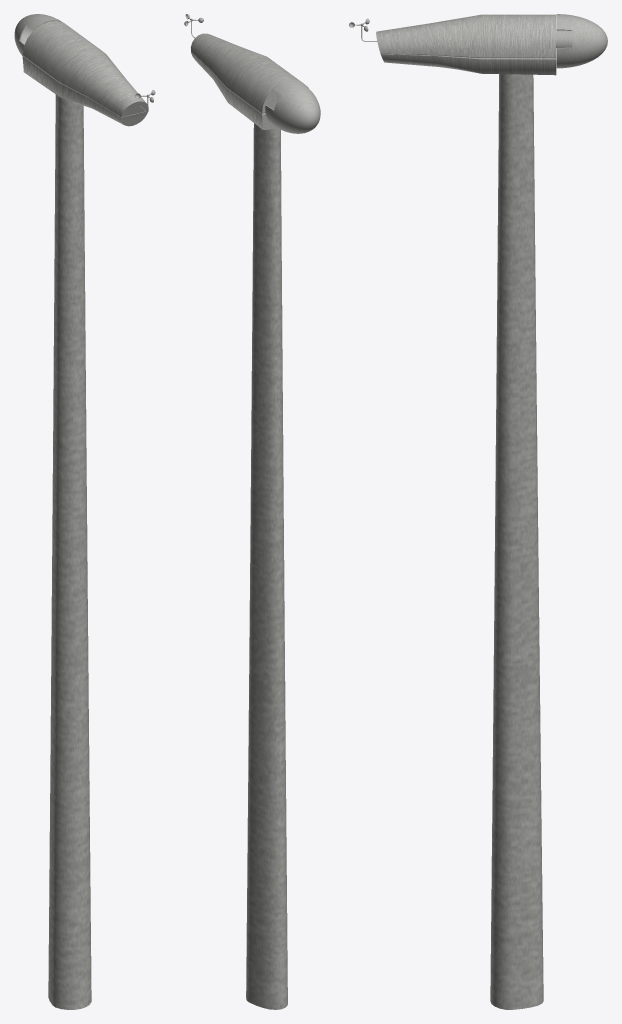
The model's file is windmill.obj.
3 views of the same model, side by side, from view 1: azimuth 30°, elevation 25°; view 2: azimuth 210°, elevation 25°; view 3: azimuth 270°, elevation 25° (orthographic). The views are drawn at different scales.
Visible parts, largest first — view 1: uploads_files_4771933_windturbine01; view 2: uploads_files_4771933_windturbine01; view 3: uploads_files_4771933_windturbine01.
Part boxes in pixels (x1,y1,x2,y2): uploads_files_4771933_windturbine01: (14, 14, 155, 1009); uploads_files_4771933_windturbine01: (184, 14, 320, 1009); uploads_files_4771933_windturbine01: (349, 14, 607, 1009).
Size of the model in its own units: 3.41 by 59.74 by 14.24.
Materials: 1 (1 with a texture image).
